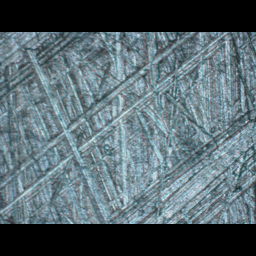d: (103, 106, 256, 223), (22, 47, 112, 220)
